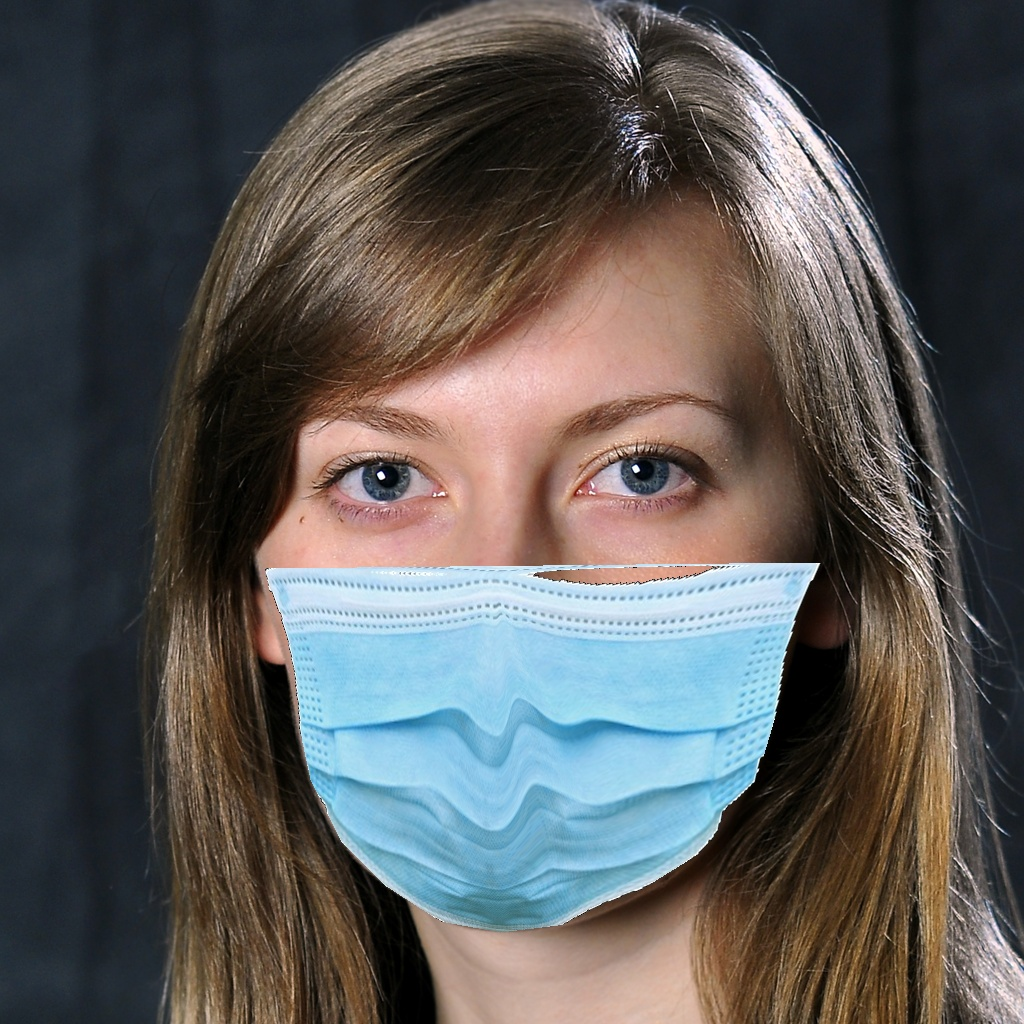with_mask: (277, 388, 827, 936)
